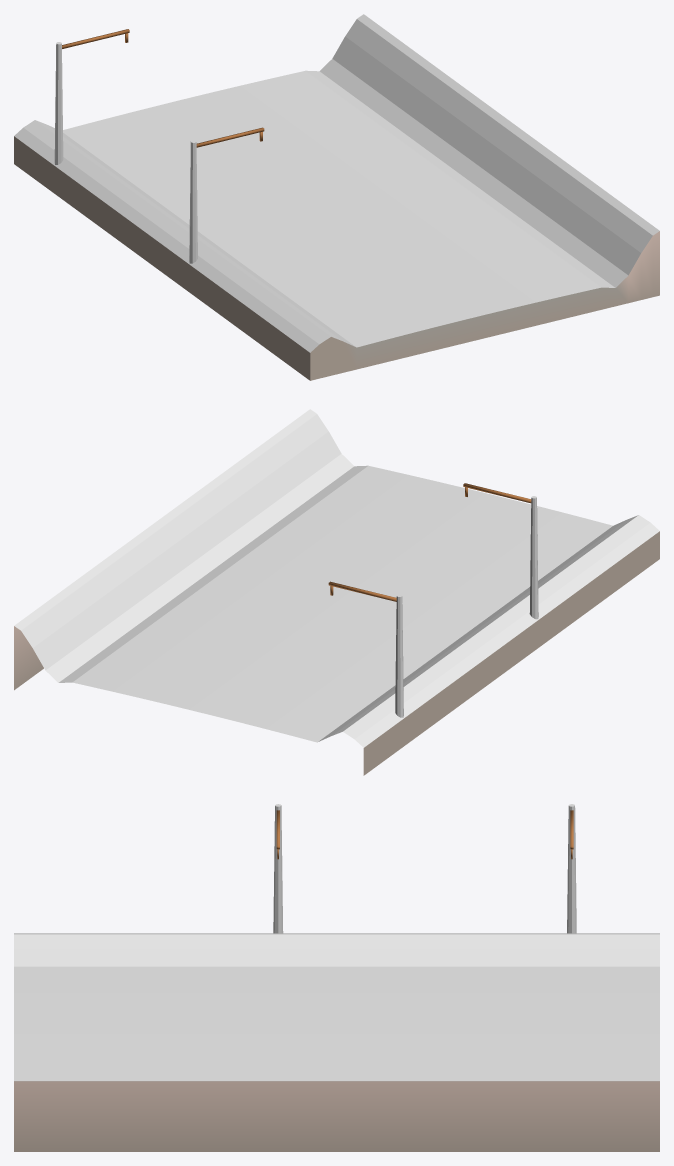
Rendered from pit_haul_lane.glb.
3 renders of one model, top to bottom at view 1: azimuth 30°, elevation 25°; view 2: azimuth 150°, elevation 25°; view 3: azimuth 270°, elevation 25°, orthographic. The views are drawn at different scales.
Visible parts, largest first — view 1: pit_haul_lane-col-col, pit_haul_lane_ground; view 2: pit_haul_lane-col-col, pit_haul_lane_ground; view 3: pit_haul_lane-col-col, pit_haul_lane_ground.
Part boxes in pixels (bbox=[...]): pit_haul_lane-col-col: bbox=[14, 14, 659, 352]; pit_haul_lane_ground: bbox=[14, 29, 659, 380]; pit_haul_lane-col-col: bbox=[14, 409, 659, 747]; pit_haul_lane_ground: bbox=[14, 483, 659, 775]; pit_haul_lane-col-col: bbox=[14, 804, 659, 1081]; pit_haul_lane_ground: bbox=[14, 810, 659, 1151].
Bounding box in the file's own units: 30 × 12.24 × 44.
